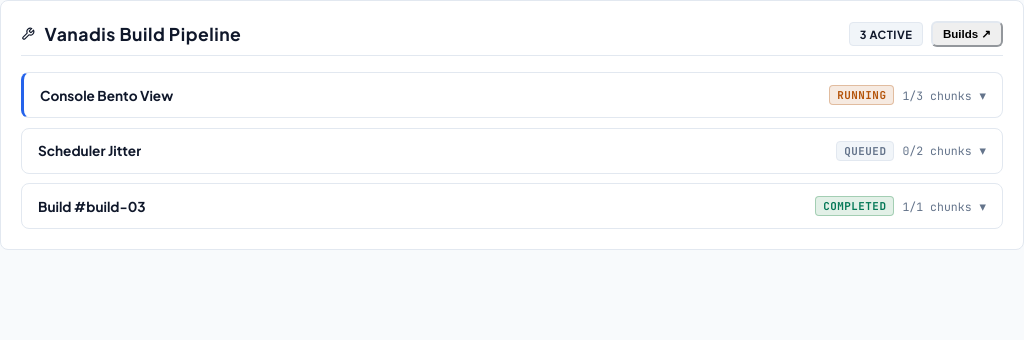
Test: OverviewBuildsSection › isolates detail errors from earlier failures when expanding an unrelated chunk-less build
The image size is (1024, 340).
Click the button with class "overview-build-header" that starts with "Scheduler Jitter": (90, 151) [38,141,986,161]
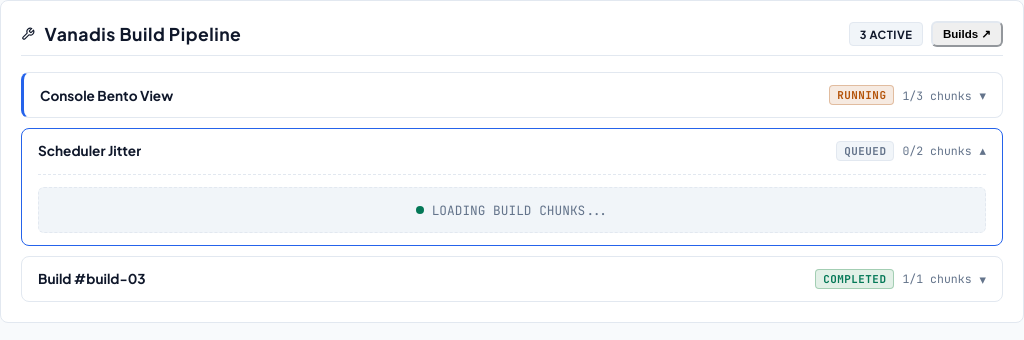
Check: the text "LOADING BUILD CHUNKS..." is shown, box [38,187,986,233]
